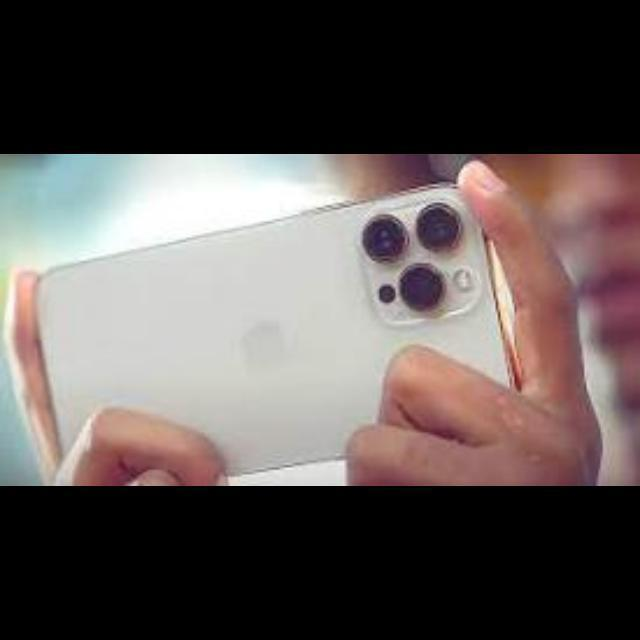phone: (11, 191, 589, 463)
